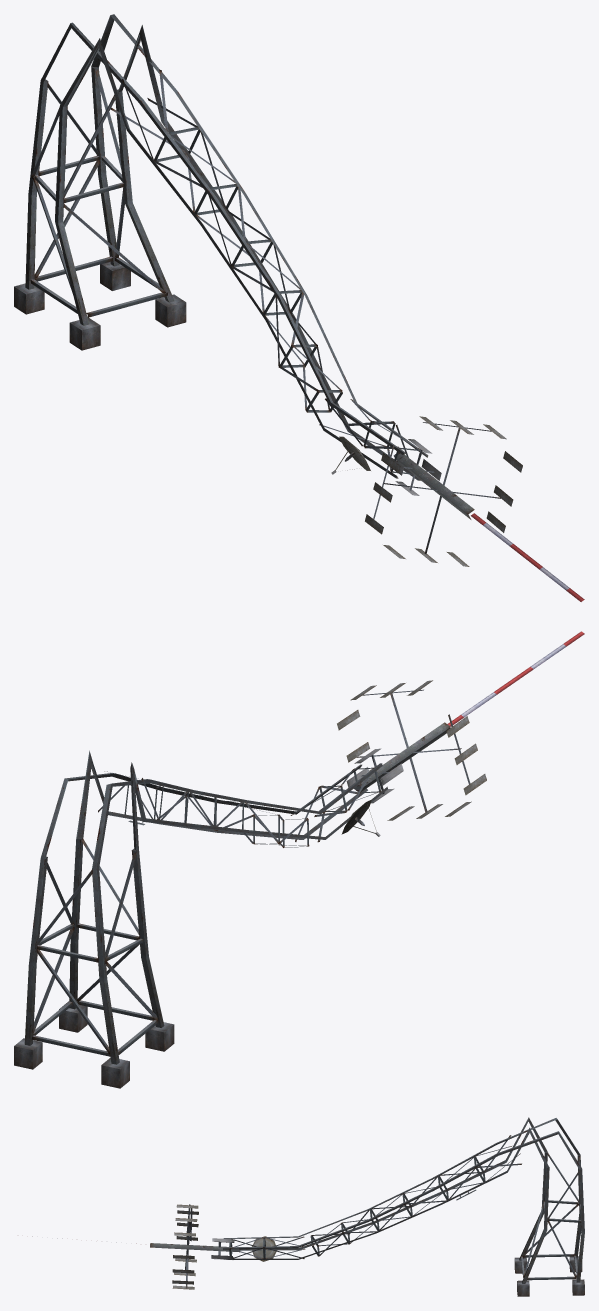
Rendered from Vehicle_Tt001_lod1.glb.
The picture shows the model from 3 angles, top to bottom: view 1: azimuth 30°, elevation 25°; view 2: azimuth 150°, elevation 25°; view 3: azimuth 270°, elevation 25°; orthographic projection. The views are drawn at different scales.
Visible parts, largest first — view 1: tianwang_tt001_lod1; view 2: tianwang_tt001_lod1; view 3: tianwang_tt001_lod1.
Boxes of the visible parts, x1,y1,x2,y2 form: tianwang_tt001_lod1: (14,14,584,601); tianwang_tt001_lod1: (14,631,584,1088); tianwang_tt001_lod1: (32,1117,584,1296).
Size of the model in its own units: 4.57 by 9.36 by 29.79.
Materials: 1 (1 with a texture image).
